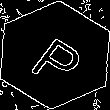P_NE: (22, 23, 88, 87)
